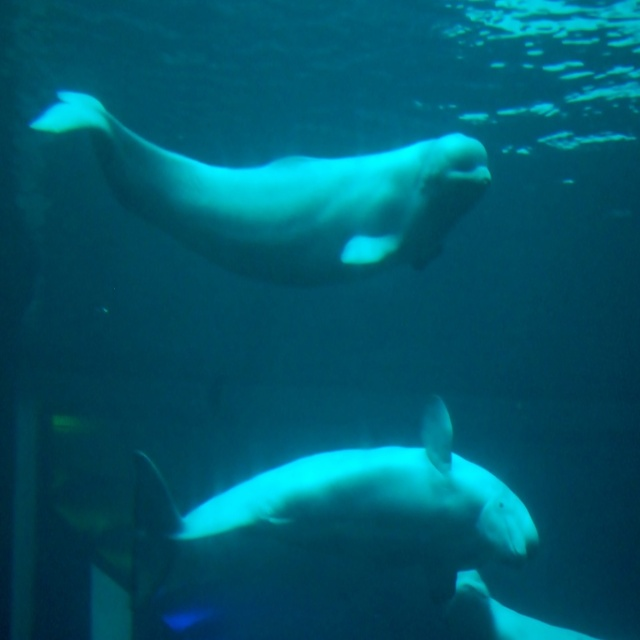Whale: (29, 92, 493, 290), (132, 394, 540, 612), (445, 565, 618, 640)
